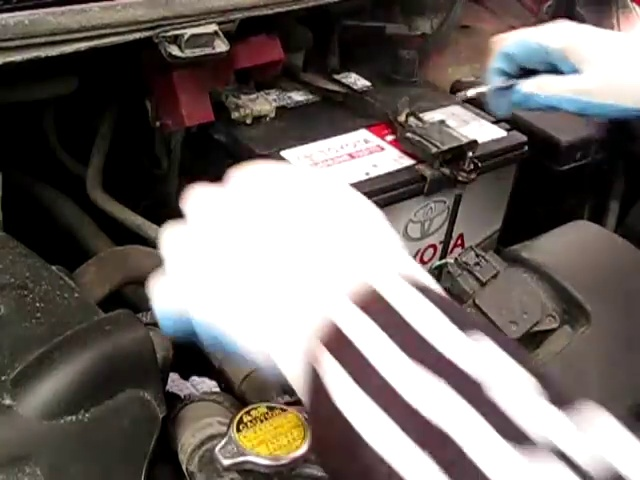battery: (160, 41, 524, 189)
pos_connected: (184, 44, 278, 132)
